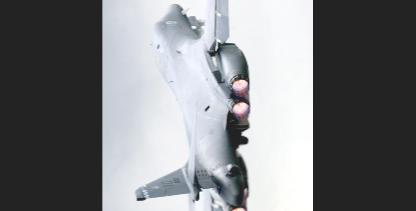AV8B: (132, 0, 252, 210)
